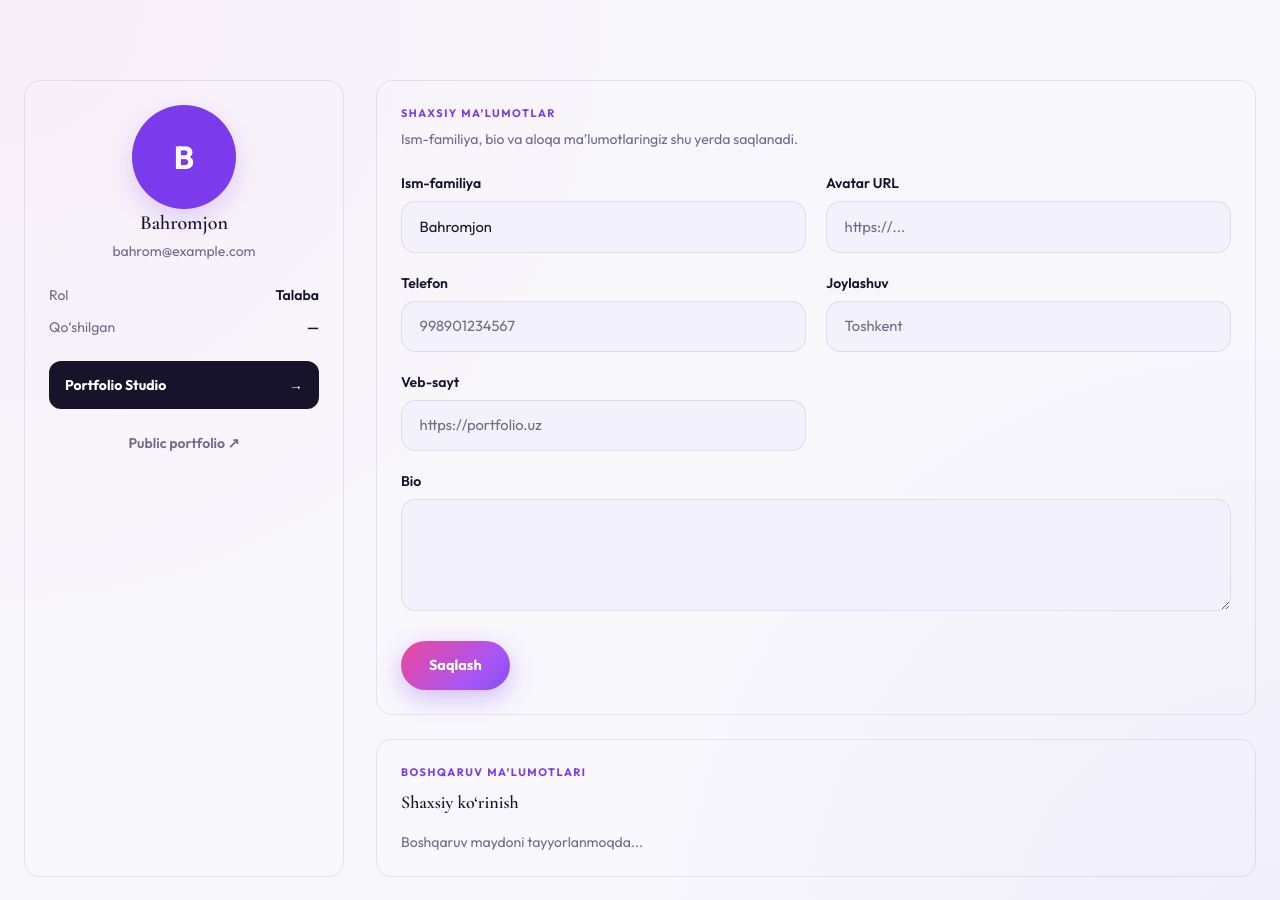
Scenario: ProfilePage › saqlash yiqilganda xatoni ko'rsatib, formani ochiq qoldiradi
This screenshot has width=1280, height=900.
Expected: the field labelled "Ism-familiya" is shown, [401, 201, 806, 253]
Click the button "Saqlash": (455, 666) [401, 641, 510, 690]
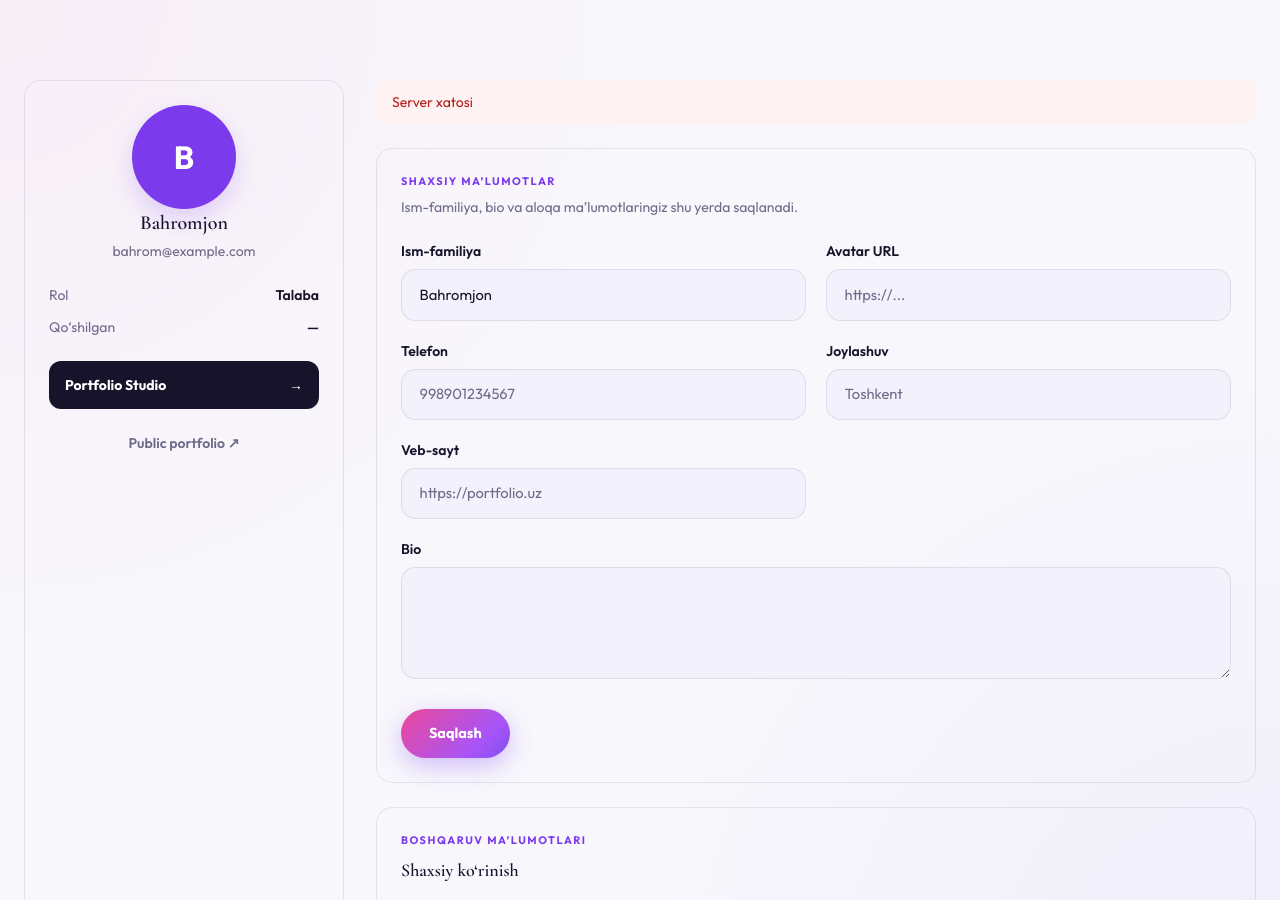
Expected: the button "Saqlash" is enabled, [401, 709, 510, 758]
Expected: the message reads "Server xatosi", [392, 93, 473, 111]
